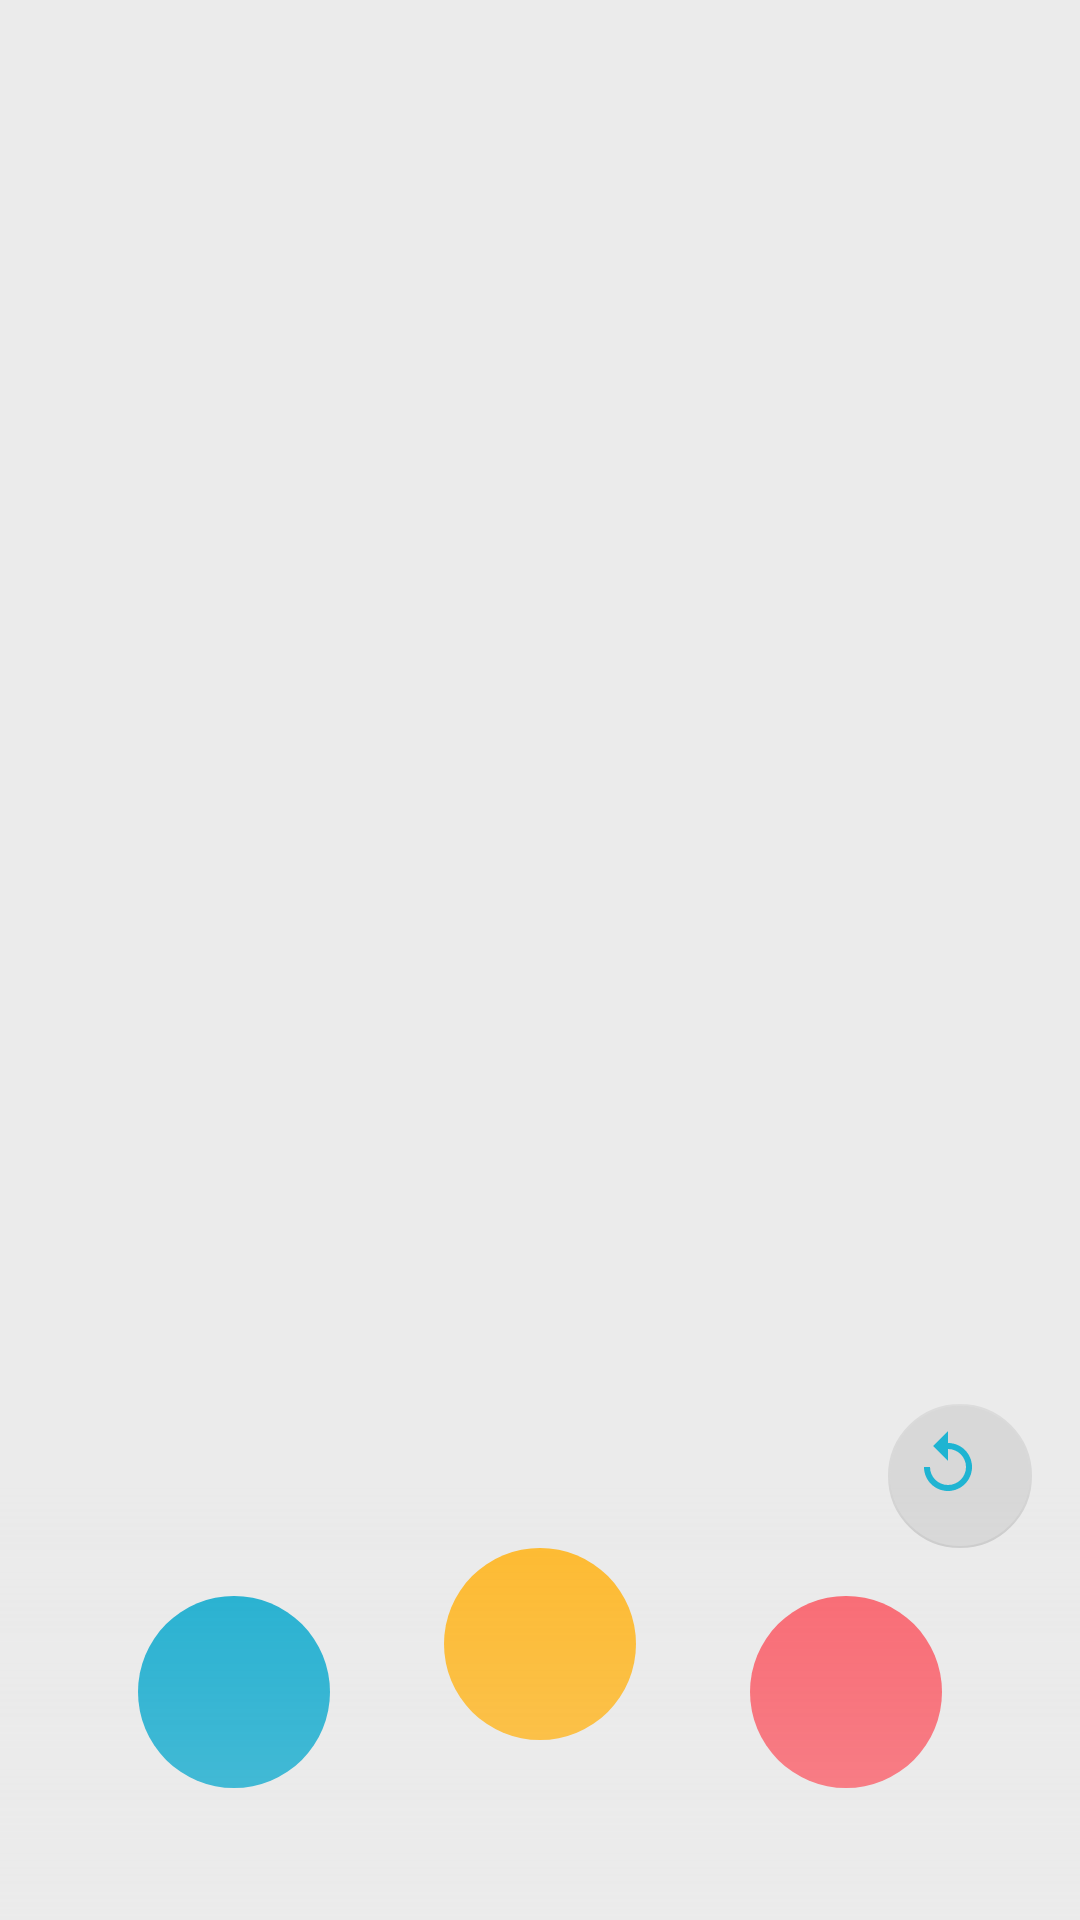

Screen size 1080x1920. Icon name, then its box in pixels as rect(x1, y1, x2, y2):
replay: rect(888, 1404, 1032, 1548)
